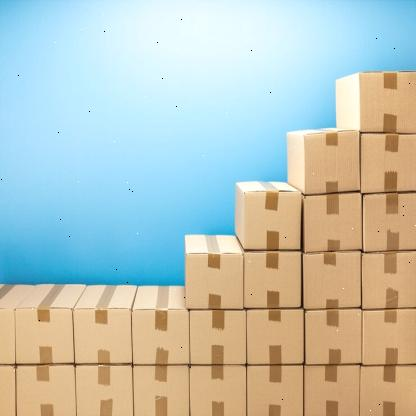box: (242, 190, 302, 250), (304, 192, 362, 254), (304, 130, 360, 194), (358, 72, 416, 132), (186, 251, 244, 311), (244, 251, 302, 311), (73, 306, 132, 364), (16, 306, 74, 365), (304, 252, 362, 310), (246, 308, 304, 365), (360, 134, 416, 193), (361, 250, 416, 310), (306, 308, 362, 366), (363, 192, 416, 253), (190, 309, 247, 365), (132, 310, 189, 365), (362, 308, 416, 366), (16, 364, 76, 416), (247, 364, 304, 416), (360, 364, 416, 416), (190, 366, 247, 416), (76, 366, 134, 415), (304, 364, 360, 414), (134, 364, 190, 414)
